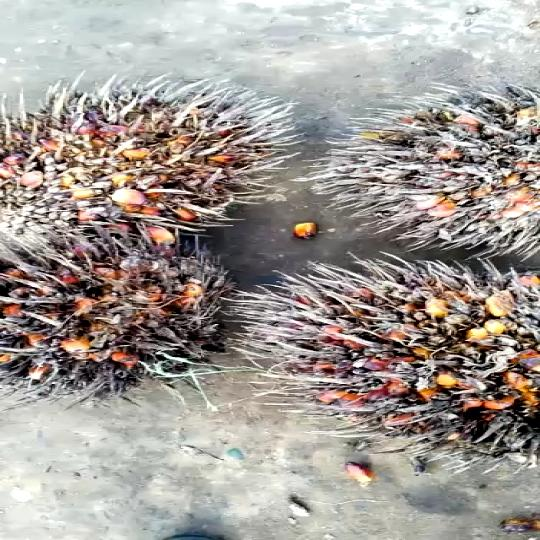terlalu masak: (0, 78, 291, 247), (0, 234, 230, 392)
